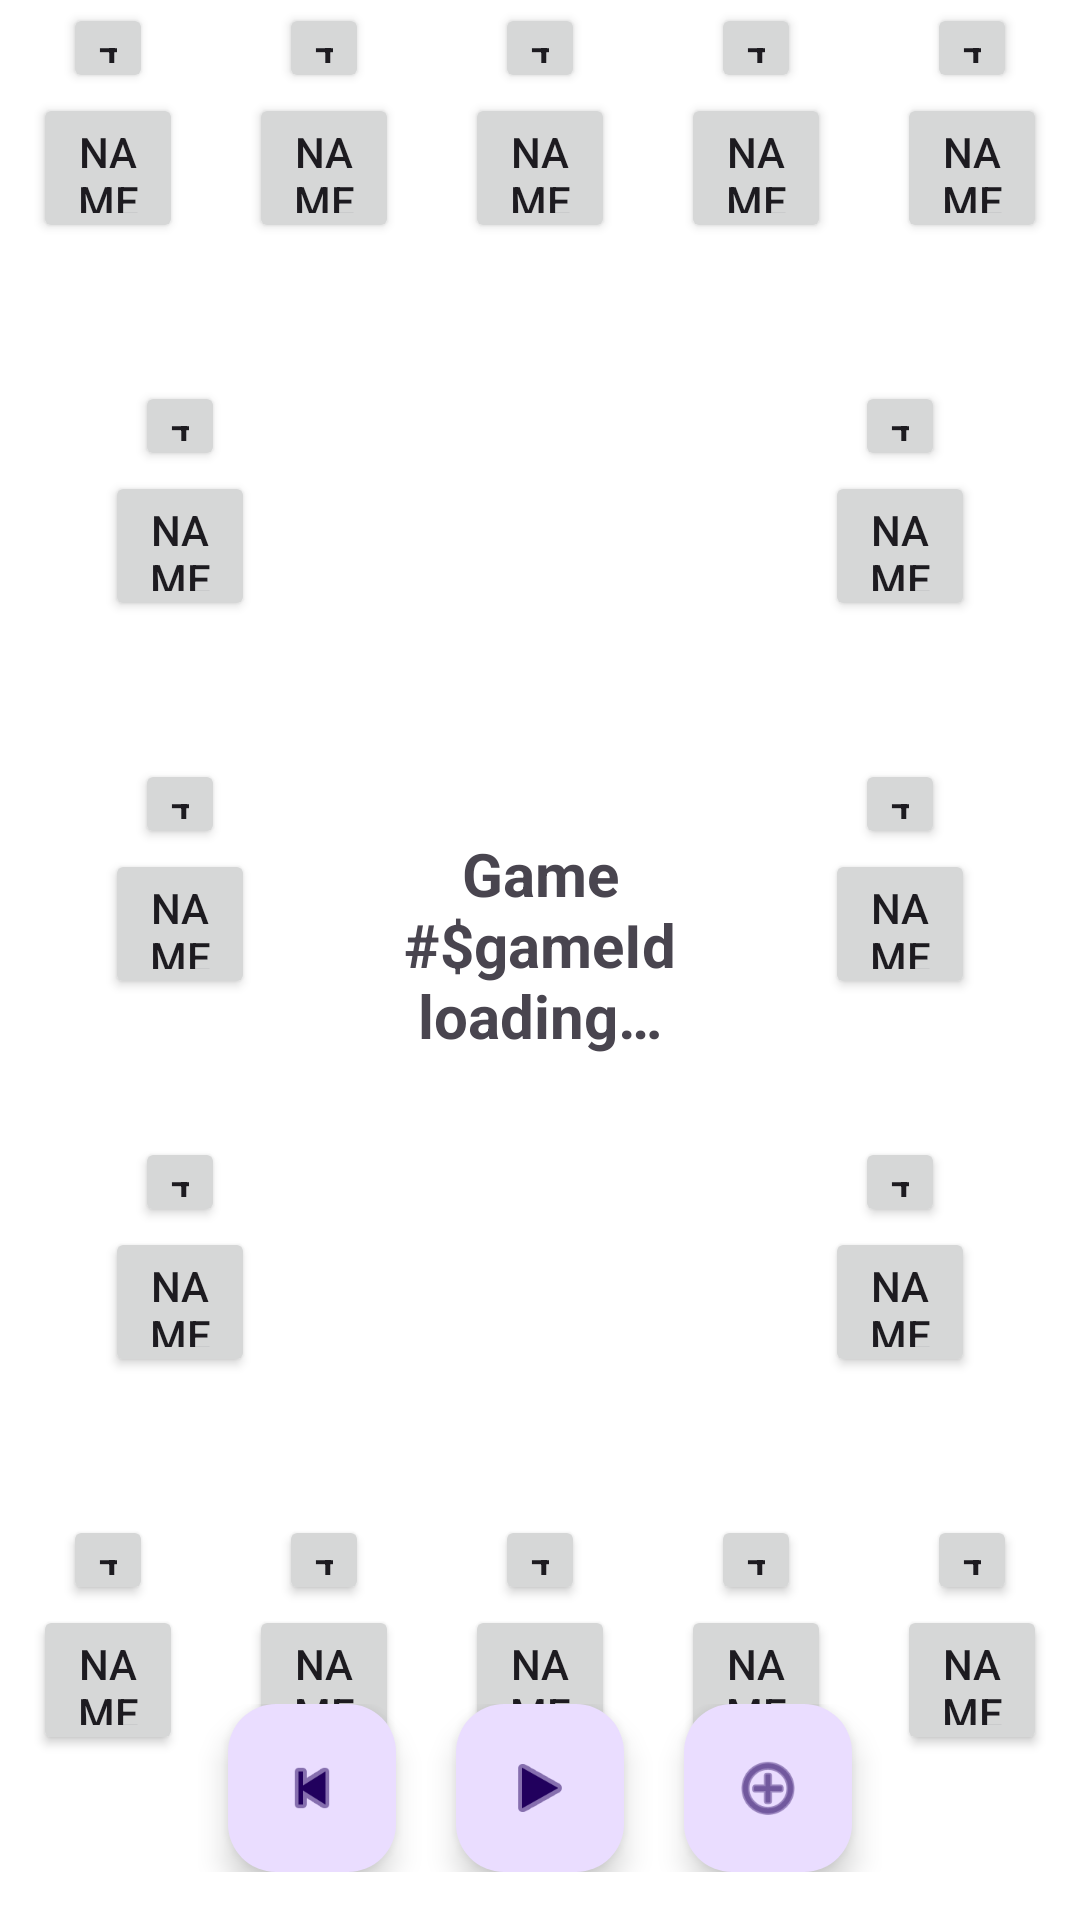

Icons on this 1080×1920 Android screen, each with the point to tap as [x,y]:
Add game: [768,1788]
play: [540,1788]
previous: [312,1788]
